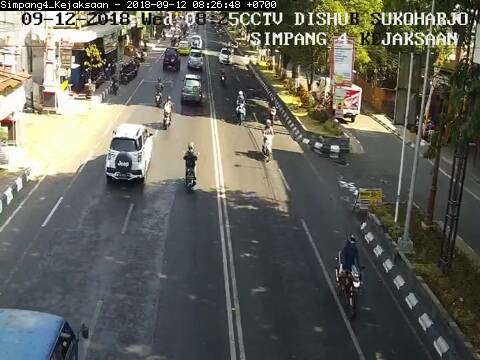motor: (333, 231, 370, 318), (259, 120, 277, 163), (232, 91, 248, 124)
